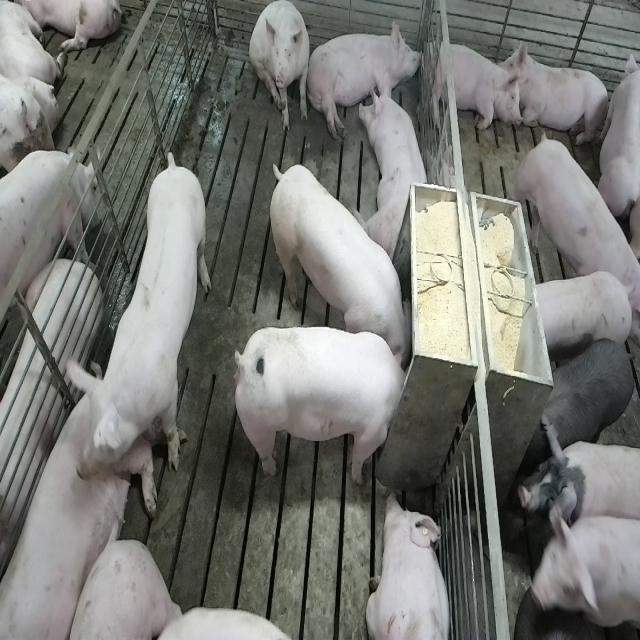Feeding: (264, 160, 412, 365), (240, 324, 416, 485)
Lateral_lying: (306, 16, 424, 142)
Sitting: (250, 1, 312, 134)
Standing: (62, 155, 211, 488), (516, 138, 640, 308), (0, 149, 96, 351), (525, 489, 637, 638), (516, 420, 638, 540), (538, 335, 637, 449), (530, 270, 636, 352)
Sternal_lying: (0, 373, 148, 635), (362, 69, 433, 259), (366, 491, 452, 640), (508, 40, 612, 149), (426, 36, 520, 136)
